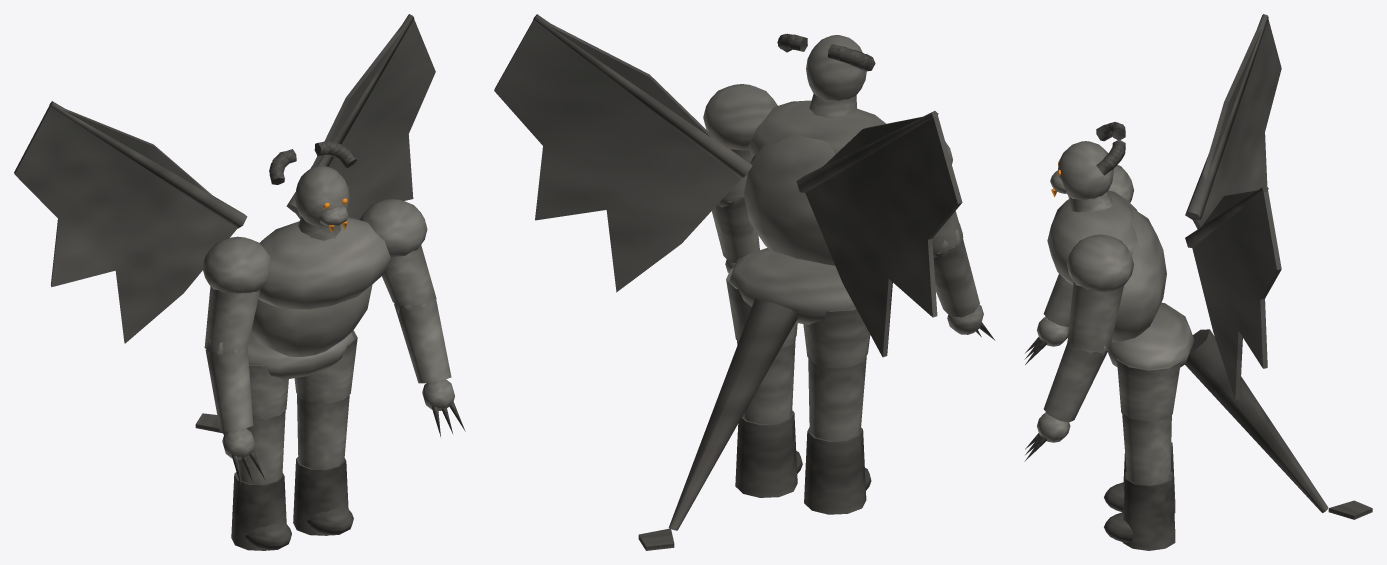
The model's file is gargoyle.obj.
The picture shows the model from 3 angles, left to right: view 1: azimuth 30°, elevation 25°; view 2: azimuth 150°, elevation 25°; view 3: azimuth 270°, elevation 25°; orthographic projection. The views are drawn at different scales.
Bounding box in the file's own units: 6.53 × 6.4 × 4.75.
Materials: 1 (1 with a texture image).
